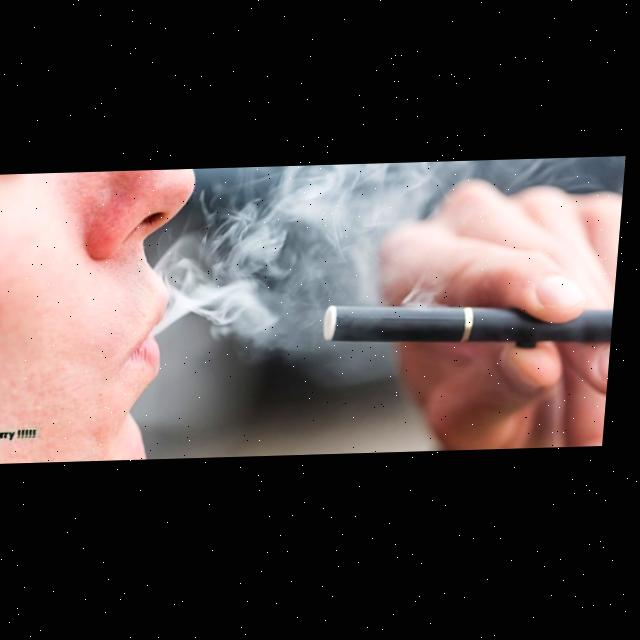vape: (327, 303, 619, 354)
